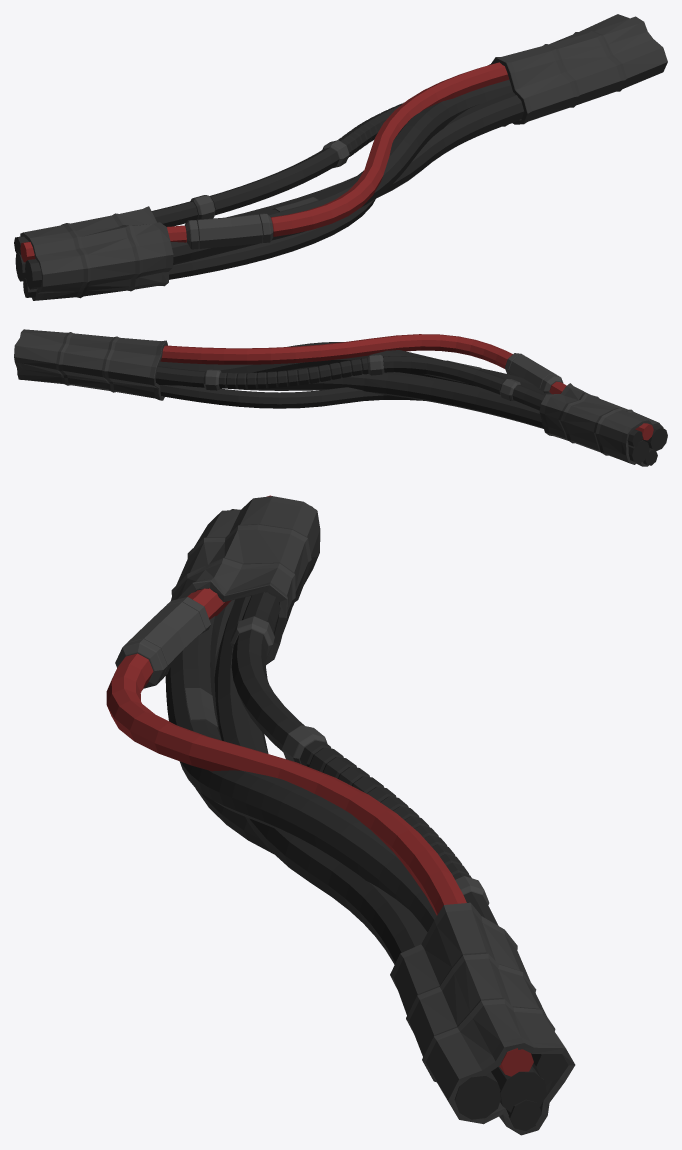
The model's file is red_cable_4.glb.
3 renders of one model, top to bottom at view 1: azimuth 30°, elevation 25°; view 2: azimuth 150°, elevation 25°; view 3: azimuth 270°, elevation 25°, orthographic. The views are drawn at different scales.
Visible parts, largest first — view 1: cable_37; view 2: cable_37; view 3: cable_37.
Boxes of the visible parts, left/top/right/bottom form: cable_37: left=14, top=14, right=667, bottom=300; cable_37: left=14, top=329, right=667, bottom=466; cable_37: left=106, top=495, right=575, bottom=1135.
Bounding box in the file's own units: 117 × 11.57 × 41.14.
